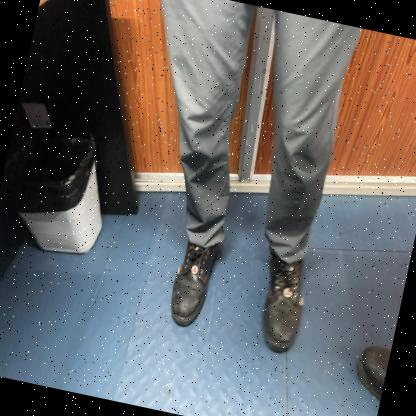bota: (251, 252, 314, 356), (164, 233, 221, 332)
